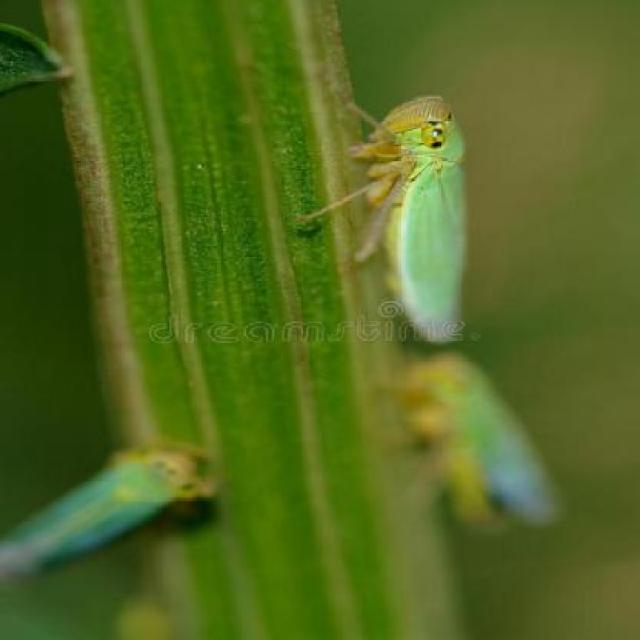green-leafhopper: (341, 96, 488, 344), (2, 444, 202, 578), (418, 360, 564, 534)
